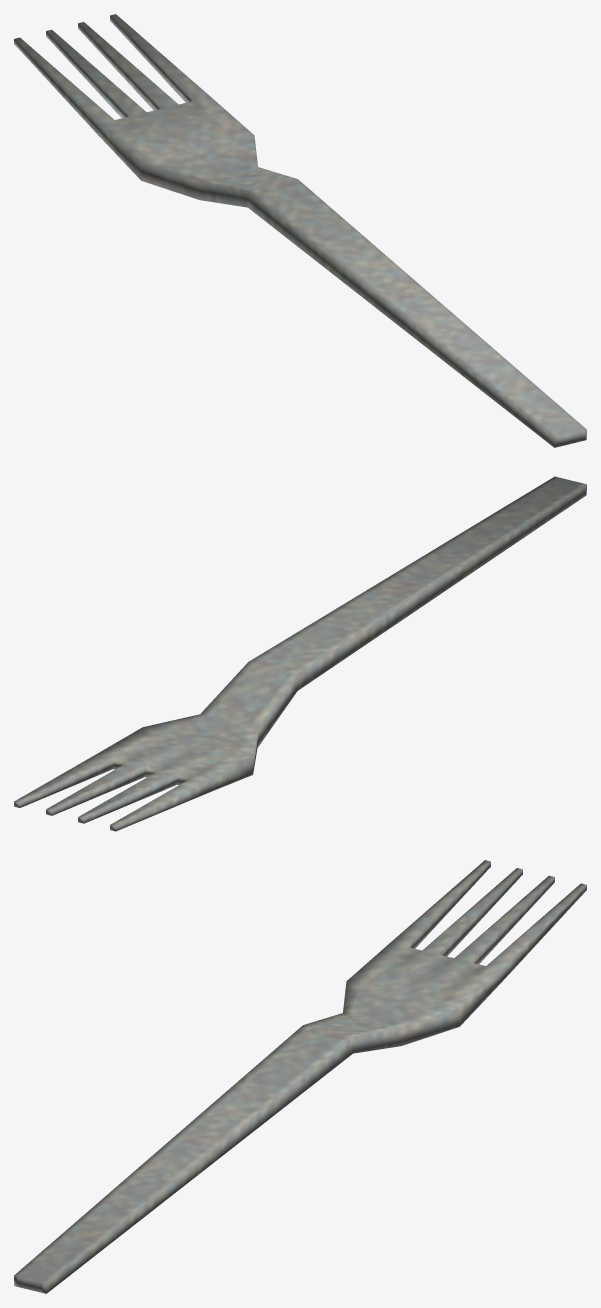
Rendered from fork.obj.
3 views of the same model, one above another, from view 1: azimuth 30°, elevation 25°; view 2: azimuth 150°, elevation 25°; view 3: azimuth 330°, elevation 25° (orthographic).
Parts seen in each view (by area): view 1: fork; view 2: fork; view 3: fork.
Part boxes in pixels (x1,y1,x2,y2): fork: [14, 14, 586, 447]; fork: [14, 476, 586, 831]; fork: [14, 860, 586, 1293].
Size of the model in its own units: 0.0293 by 0.0119 by 0.2293.
